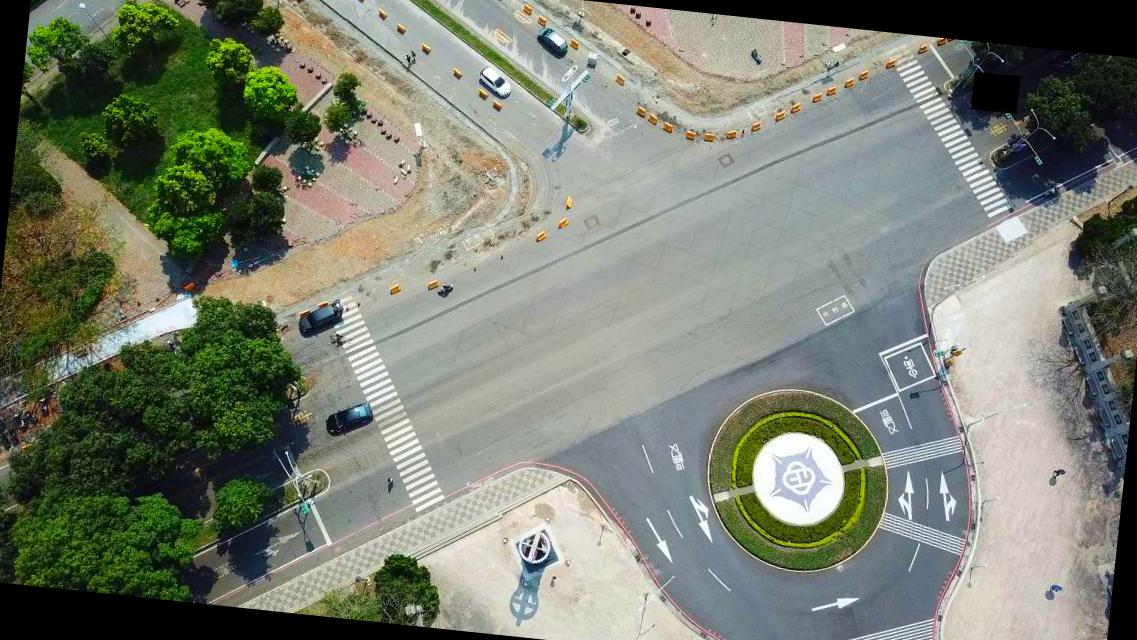vehicle: (324, 399, 374, 438), (296, 300, 342, 337), (476, 65, 513, 98), (536, 26, 569, 54)
